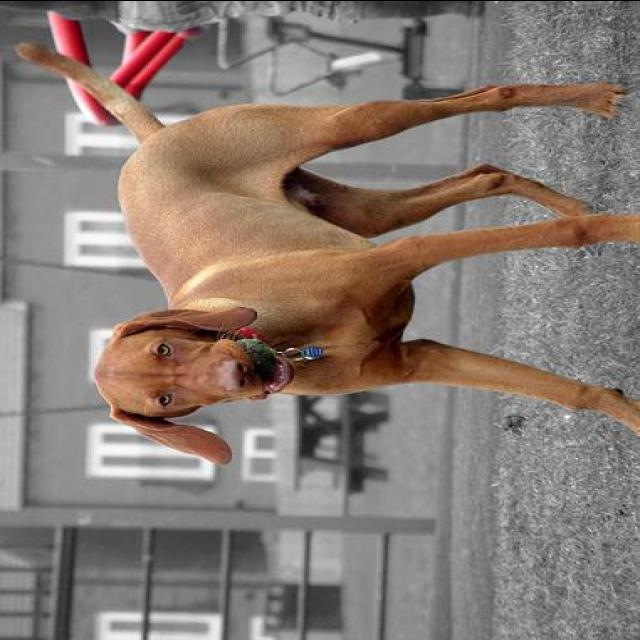vizsla: (14, 39, 638, 468)
